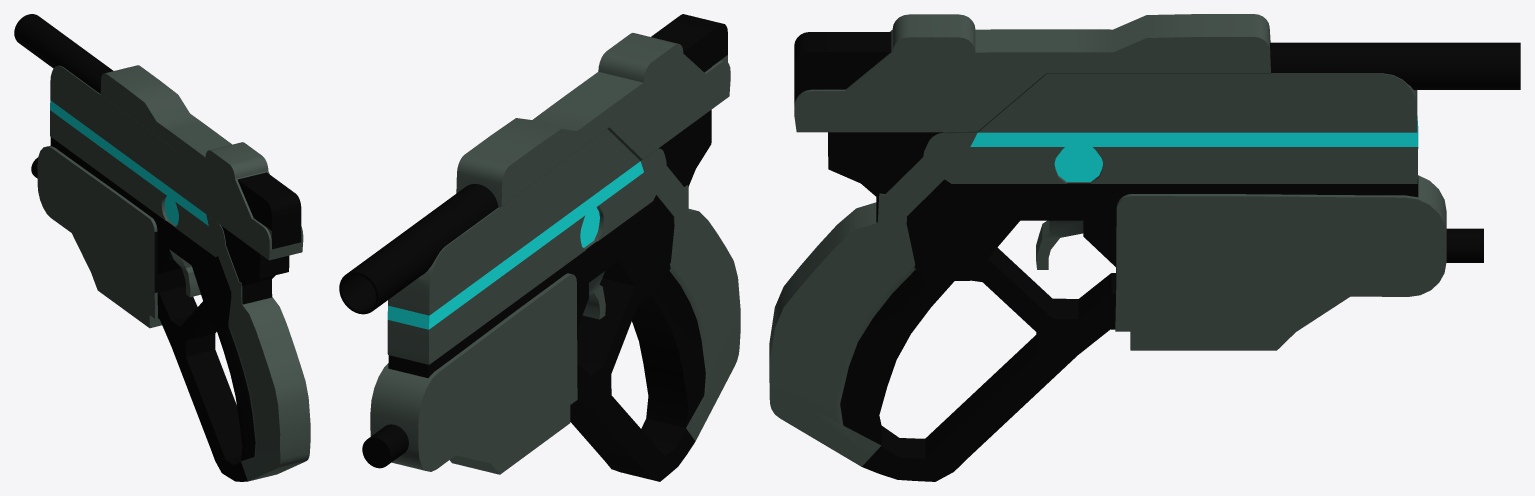
The model's file is Sci Fi Pistol.fbx.
The picture shows the model from 3 angles, left to right: view 1: azimuth 30°, elevation 25°; view 2: azimuth 150°, elevation 25°; view 3: azimuth 270°, elevation 25°; orthographic projection. The views are drawn at different scales.
Parts seen in each view (by area): view 1: Cube.002, Cylinder, Cube.007; view 2: Cube.002, Cylinder, Cube.007; view 3: Cube.002, Cylinder, Cube.007.
Boxes of the visible parts, box(x1,y1,x2,y2) form: Cube.002: box(31, 65, 310, 481); Cylinder: box(14, 14, 113, 93); Cube.007: box(169, 249, 200, 297); Cube.002: box(362, 14, 740, 481); Cylinder: box(339, 184, 498, 314); Cube.007: box(582, 271, 605, 319); Cube.002: box(769, 14, 1483, 481); Cylinder: box(1270, 42, 1520, 89); Cube.007: box(1036, 220, 1083, 269).
Size of the model in its own units: 0.0399 by 0.341 by 0.5204.
